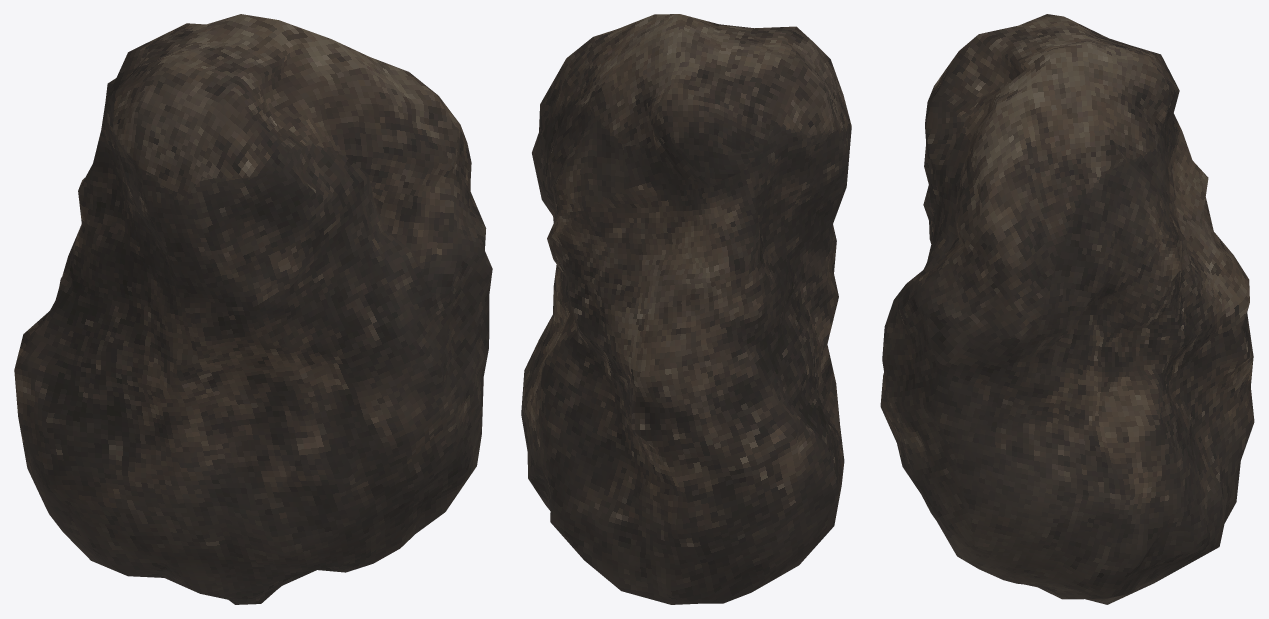
The model's file is SM_RP2_Rock_2m_4.glb.
The picture shows the model from 3 angles, left to right: view 1: azimuth 30°, elevation 25°; view 2: azimuth 150°, elevation 25°; view 3: azimuth 270°, elevation 25°; orthographic projection. The views are drawn at different scales.
Visible parts, largest first — view 1: SM_RP2_Rock_2m_4; view 2: SM_RP2_Rock_2m_4; view 3: SM_RP2_Rock_2m_4.
Boxes of the visible parts, left/top/right/bottom form: SM_RP2_Rock_2m_4: left=14, top=14, right=492, bottom=604; SM_RP2_Rock_2m_4: left=521, top=14, right=851, bottom=604; SM_RP2_Rock_2m_4: left=880, top=14, right=1254, bottom=604.
Size of the model in its own units: 2.33 by 3.6 by 2.2.
1 material, 1 textured.
